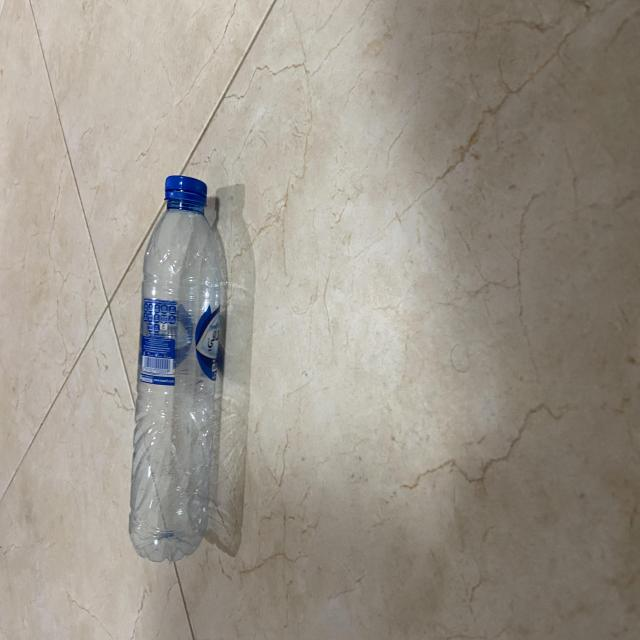bottle: (125, 164, 218, 565)
